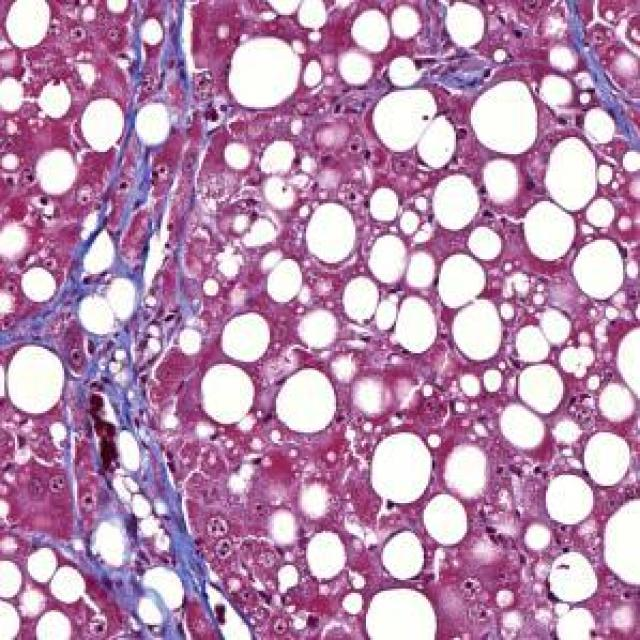fibrosis: (23, 188, 190, 372), (62, 439, 231, 608)
